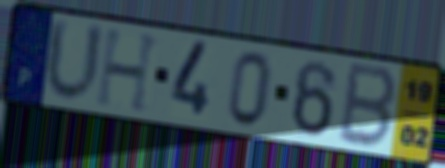0: (225, 48, 275, 130)
4: (169, 37, 216, 125)
6: (291, 59, 339, 139)
B: (335, 59, 401, 152)
H: (93, 26, 164, 116)
U: (42, 15, 107, 107)
